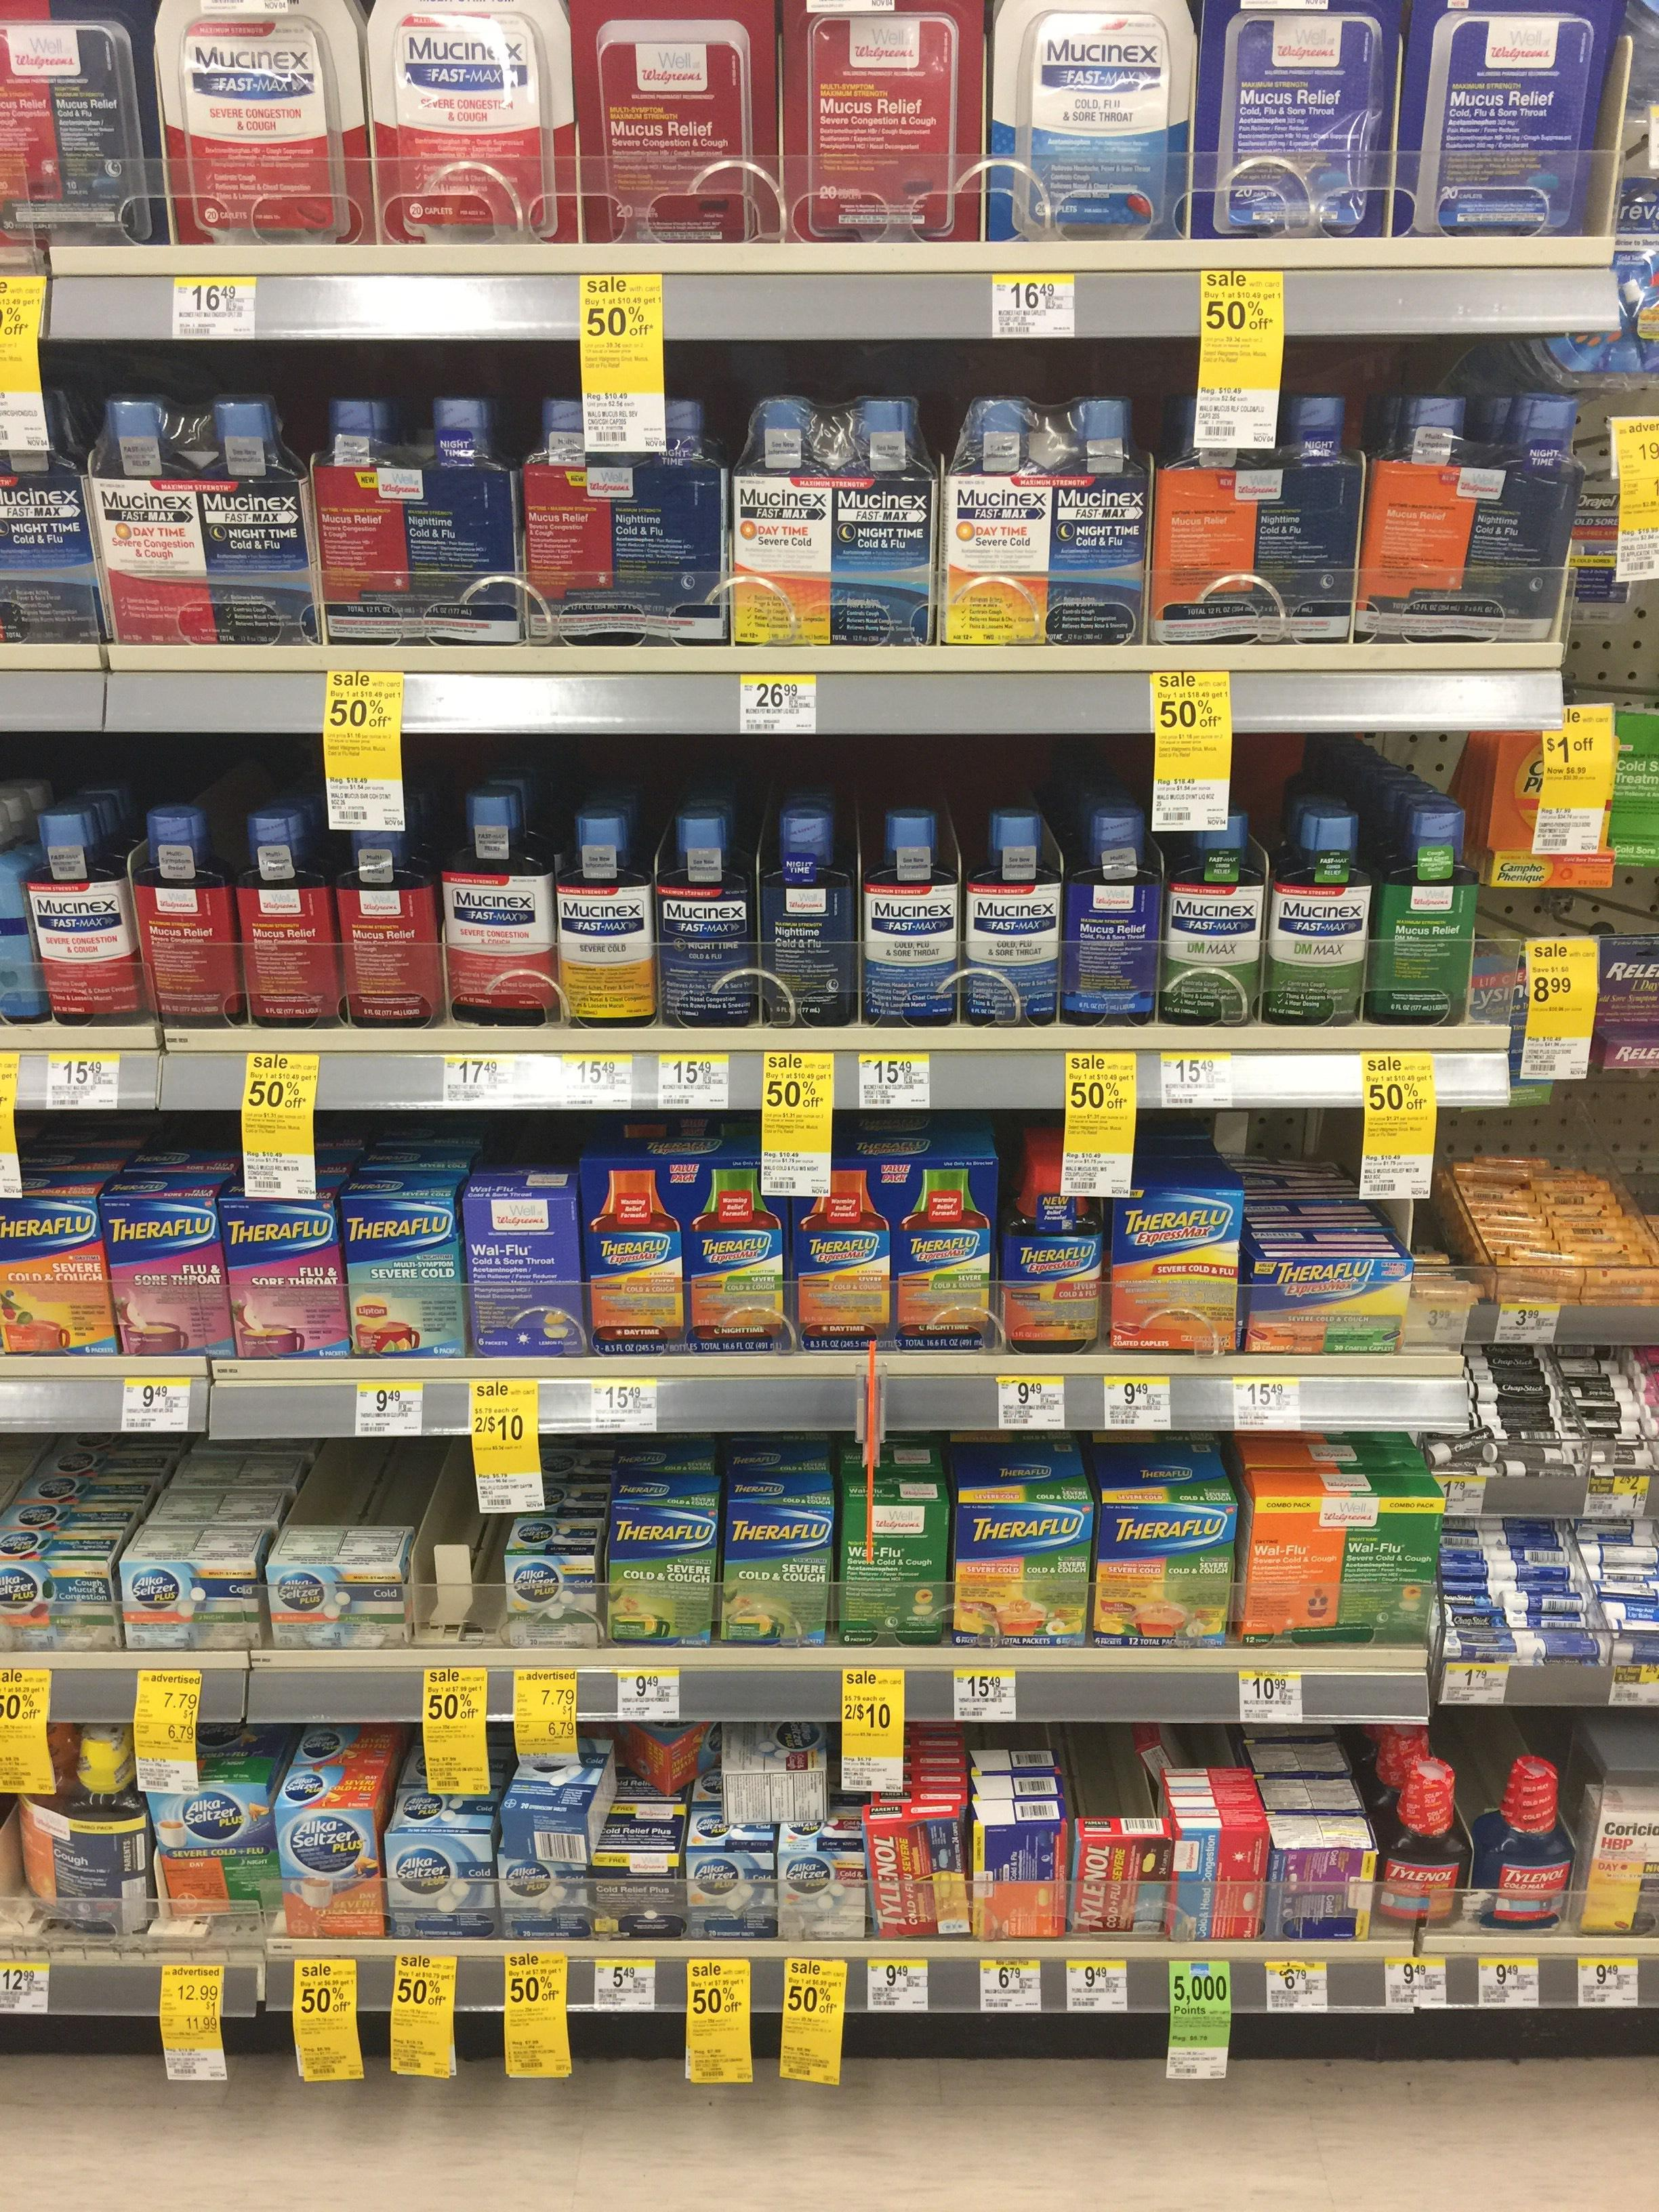misalignment: (500, 1735, 610, 1858), (714, 1728, 836, 1815), (622, 1719, 716, 1792), (1133, 1717, 1195, 1782)
